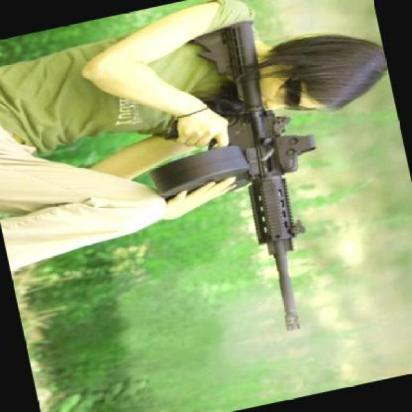Gun: (122, 8, 355, 354)
